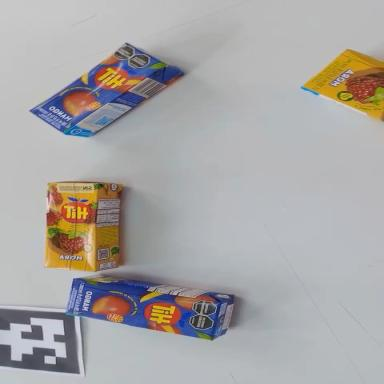HIT-MANGO: (28, 26, 185, 158), (66, 271, 236, 342), (44, 181, 123, 273), (299, 40, 384, 122)
cara_F: (28, 31, 166, 143), (64, 279, 217, 340), (302, 39, 384, 122), (43, 180, 99, 271)
